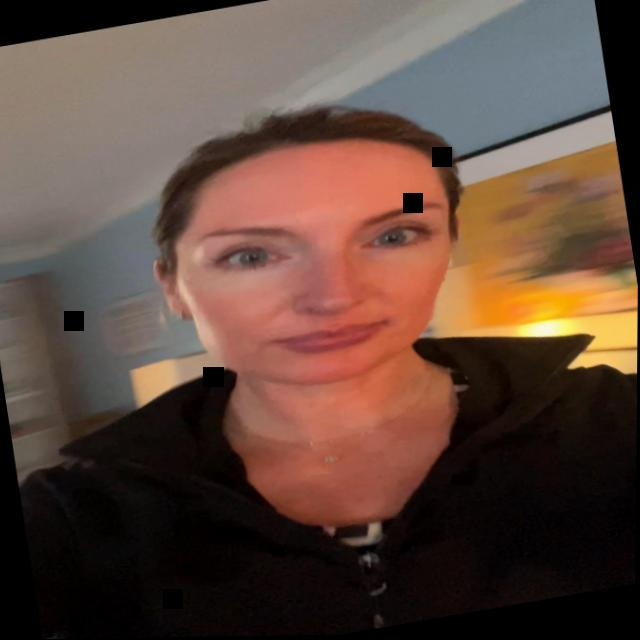NO-Mask: (135, 101, 495, 431)
